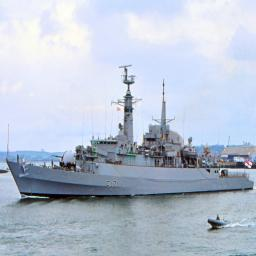Fragata: (6, 62, 255, 204)
